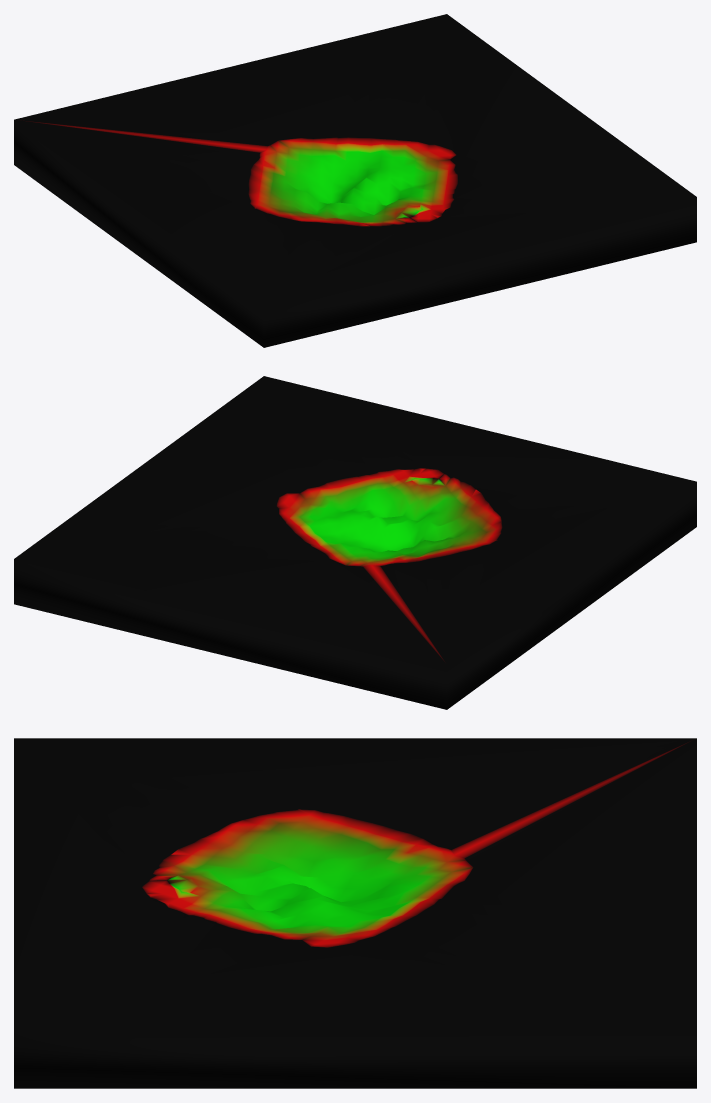
Rendered from FloorV1Base-DamagedV2.fbx.
The picture shows the model from 3 angles, top to bottom: view 1: azimuth 30°, elevation 25°; view 2: azimuth 150°, elevation 25°; view 3: azimuth 270°, elevation 25°; orthographic projection. The views are drawn at different scales.
Parts seen in each view (by area): view 1: FloorV1Base_DamagedV2; view 2: FloorV1Base_DamagedV2; view 3: FloorV1Base_DamagedV2.
Part boxes in pixels (bbox=[...]): FloorV1Base_DamagedV2: bbox=[14, 14, 696, 347]; FloorV1Base_DamagedV2: bbox=[14, 376, 696, 709]; FloorV1Base_DamagedV2: bbox=[14, 738, 696, 1088].
Size of the model in its own units: 200 by 20 by 200.
